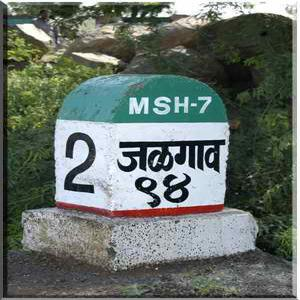kmstone: (57, 69, 228, 222)
